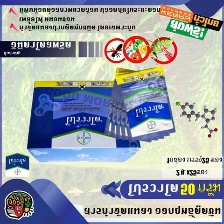book: (24, 78, 143, 164)
insecticide: (112, 63, 178, 143)
